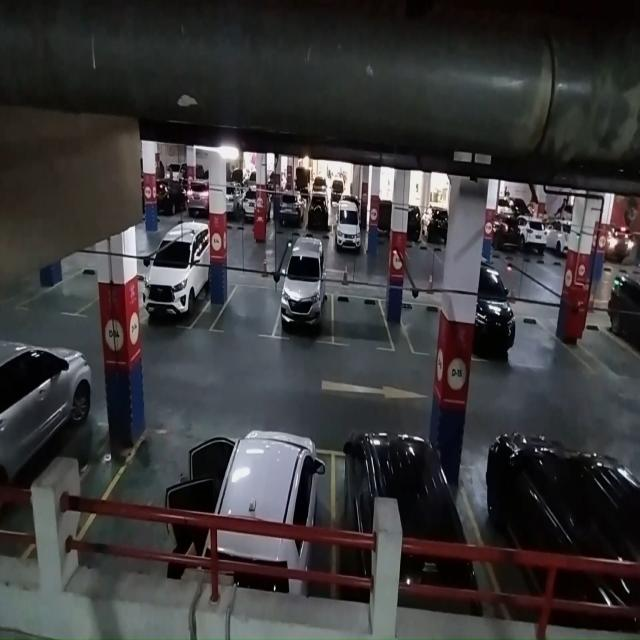empty: (212, 283, 274, 337), (332, 294, 386, 350), (400, 299, 440, 356)
occupied: (331, 435, 468, 537), (210, 429, 337, 528), (140, 242, 210, 330), (275, 268, 333, 344)
